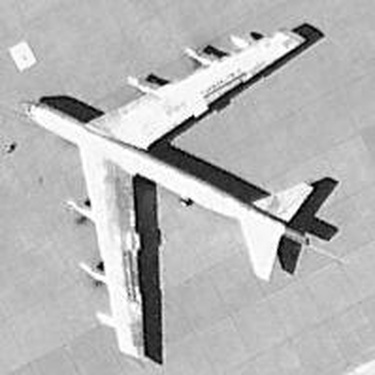airplane: (5, 21, 348, 369)
